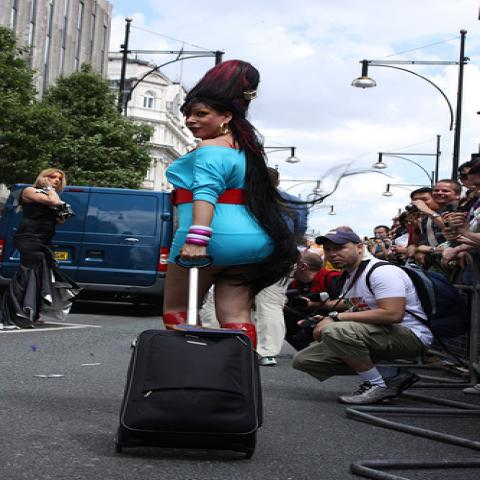truck: (56, 189, 172, 315)
